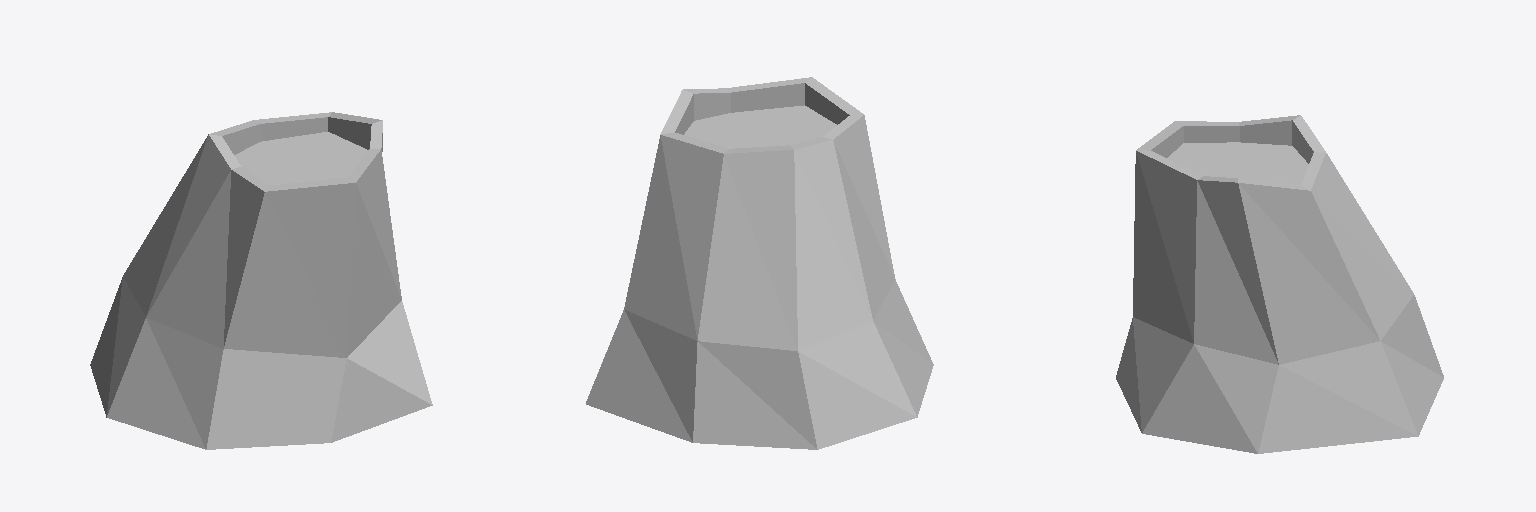
The model's file is Stump_2.obj.
3 renders of one model, left to right at view 1: azimuth 30°, elevation 25°; view 2: azimuth 150°, elevation 25°; view 3: azimuth 270°, elevation 25°, orthographic.
Parts seen in each view (by area): view 1: Stump.2; view 2: Stump.2; view 3: Stump.2.
Part boxes in pixels (left/top/right/bottom): Stump.2: left=90, top=112, right=432, bottom=449; Stump.2: left=586, top=77, right=933, bottom=449; Stump.2: left=1116, top=115, right=1443, bottom=453.
Size of the model in its own units: 0.9511 by 0.7614 by 0.9058.